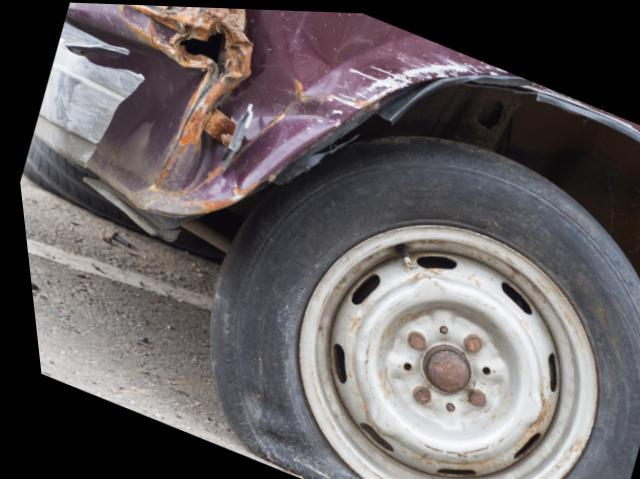dent: (135, 7, 438, 214)
tire flat: (198, 132, 640, 479)
